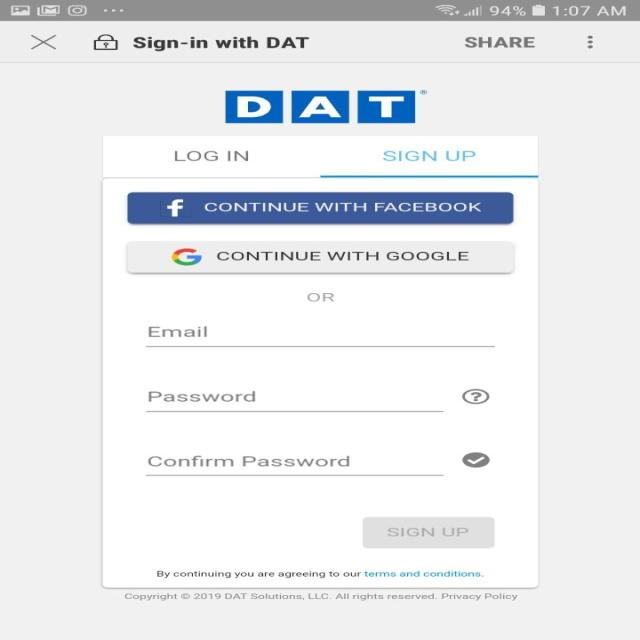EditText: (145, 326, 496, 348), (144, 455, 443, 476), (144, 391, 443, 412)
Icon: (92, 34, 119, 51), (30, 34, 57, 50), (461, 388, 488, 404), (462, 452, 489, 468), (586, 35, 593, 49)
Image: (224, 90, 428, 123)
Text: (125, 592, 518, 600), (133, 36, 310, 52), (156, 570, 484, 578), (146, 456, 350, 466), (147, 391, 255, 402), (382, 150, 476, 161), (464, 36, 535, 48), (173, 150, 248, 161), (148, 325, 208, 338), (306, 292, 334, 301)
TextButton: (125, 240, 514, 274), (127, 192, 514, 224), (362, 516, 494, 548)
